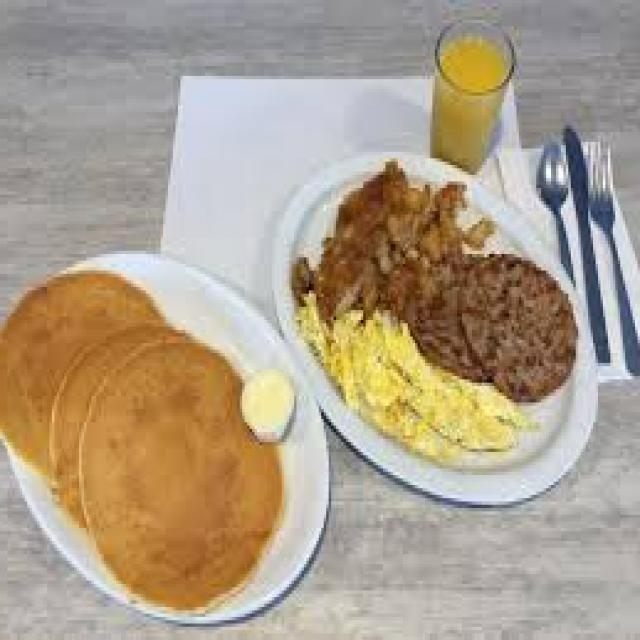Omelette: (306, 281, 539, 465)
Pancakes: (3, 264, 284, 610)
